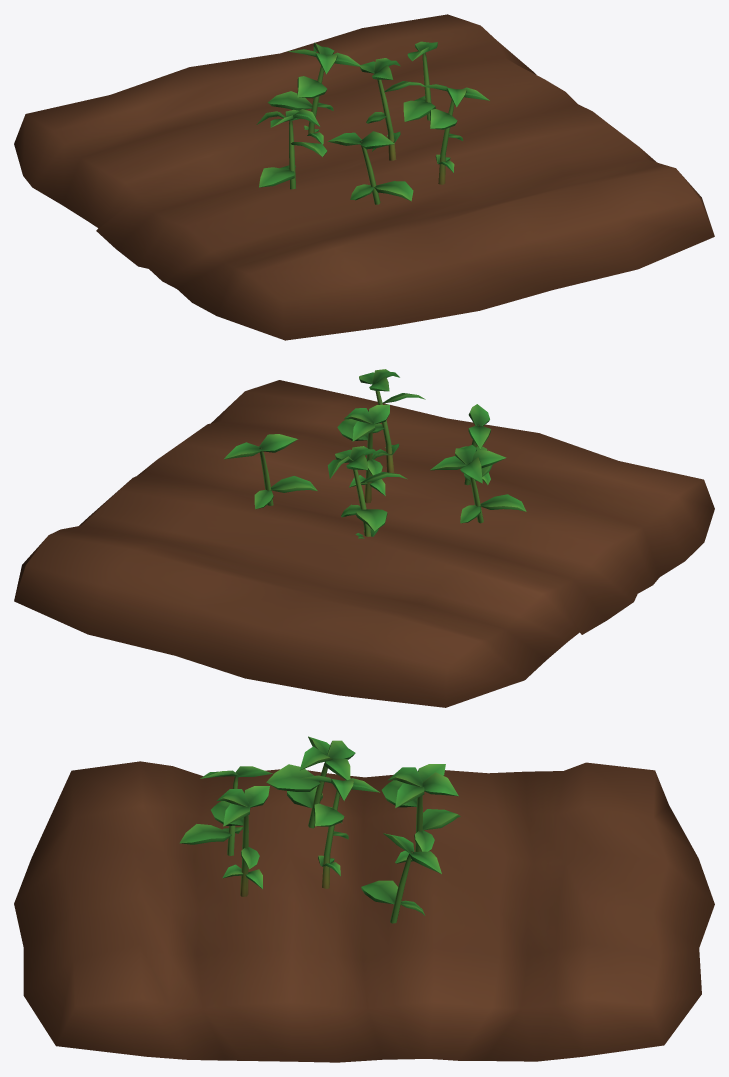
Rendered from SM_PlantSoil_Potato_Lv1.fbx.
3 views of the same model, one above another, from view 1: azimuth 30°, elevation 25°; view 2: azimuth 150°, elevation 25°; view 3: azimuth 270°, elevation 25° (orthographic). The views are drawn at different scales.
Visible parts, largest first — view 1: SM_PlantSoil_Potato_Lv1; view 2: SM_PlantSoil_Potato_Lv1; view 3: SM_PlantSoil_Potato_Lv1.
Boxes of the visible parts, x1,y1,x2,y2 form: SM_PlantSoil_Potato_Lv1: (14,14,714,340); SM_PlantSoil_Potato_Lv1: (14,369,714,707); SM_PlantSoil_Potato_Lv1: (14,736,714,1062).
Size of the model in its own units: 96.14 by 25.3 by 103.
